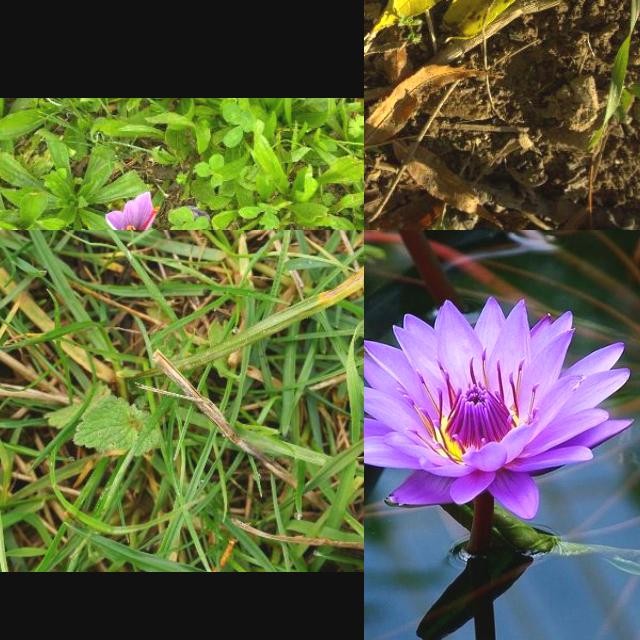flower: (105, 191, 160, 230)
